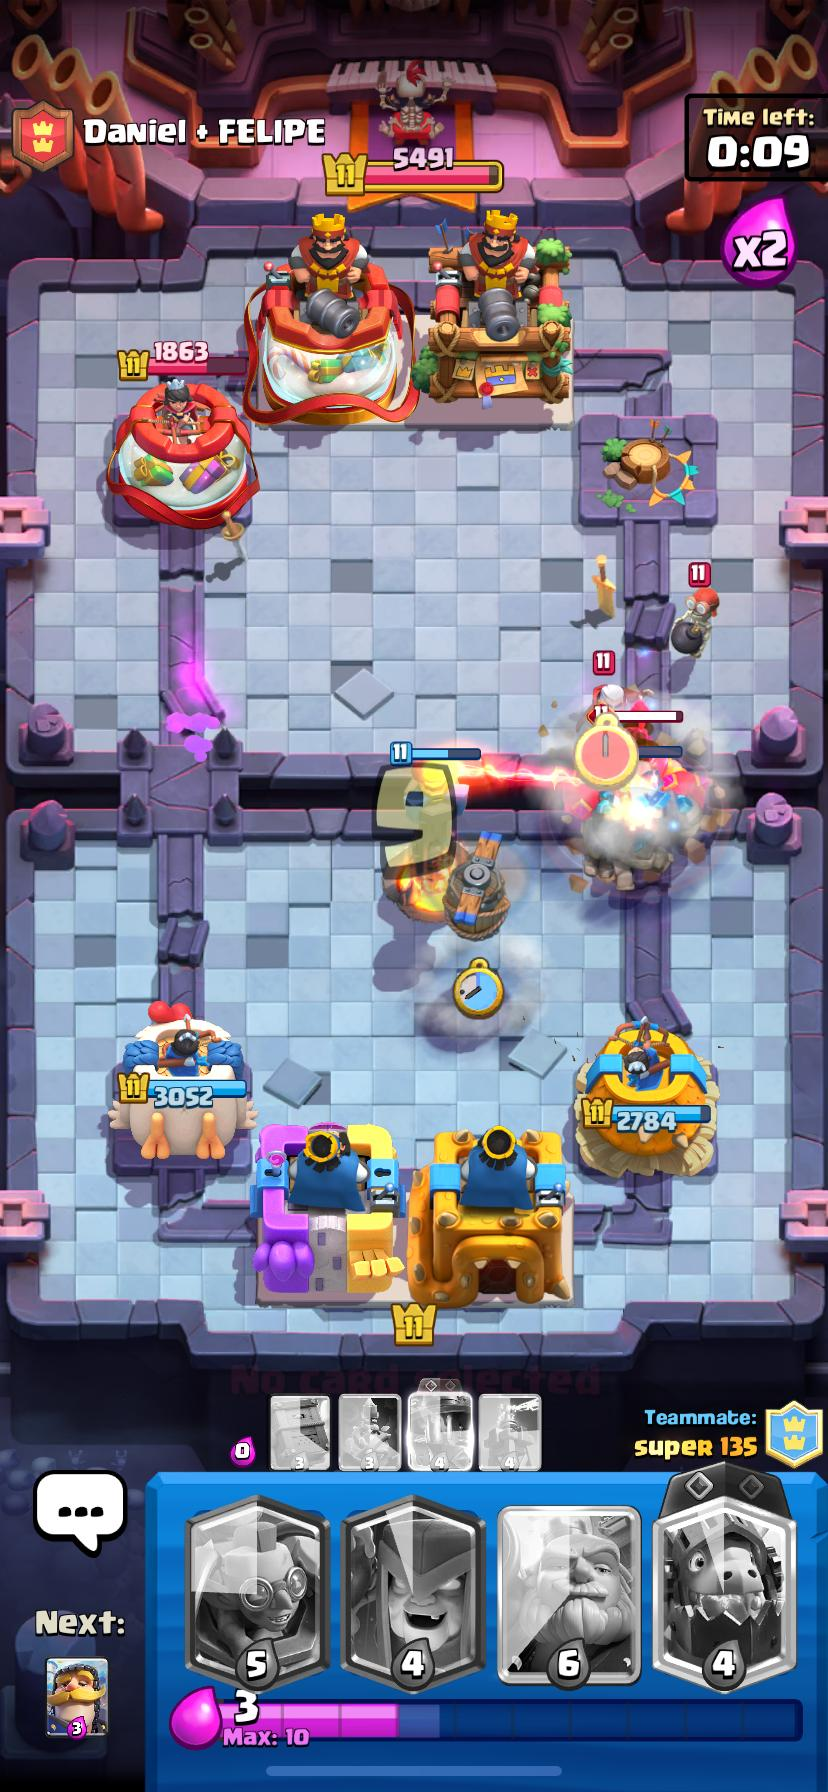EBomber: (670, 585, 718, 659)
EKingTower: (246, 215, 417, 425), (412, 211, 571, 405)
EMagicArcher: (575, 682, 654, 730)
EnemyPrincessTower: (108, 379, 258, 528)
OFlyingMachine: (444, 848, 509, 941)
OGolem: (573, 773, 704, 887)
OInfernoTower: (393, 758, 468, 917)
OwnKingTower: (417, 1125, 573, 1305), (253, 1122, 403, 1301)
OwnPrincessTower: (576, 1016, 718, 1177), (114, 1003, 256, 1158)
TowerDown: (580, 414, 717, 525)
